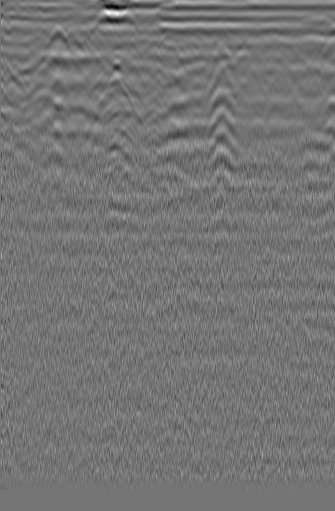가스: (91, 146, 129, 191)
상수: (0, 67, 30, 96)
오수: (279, 48, 311, 77)
우수: (155, 38, 186, 69)
